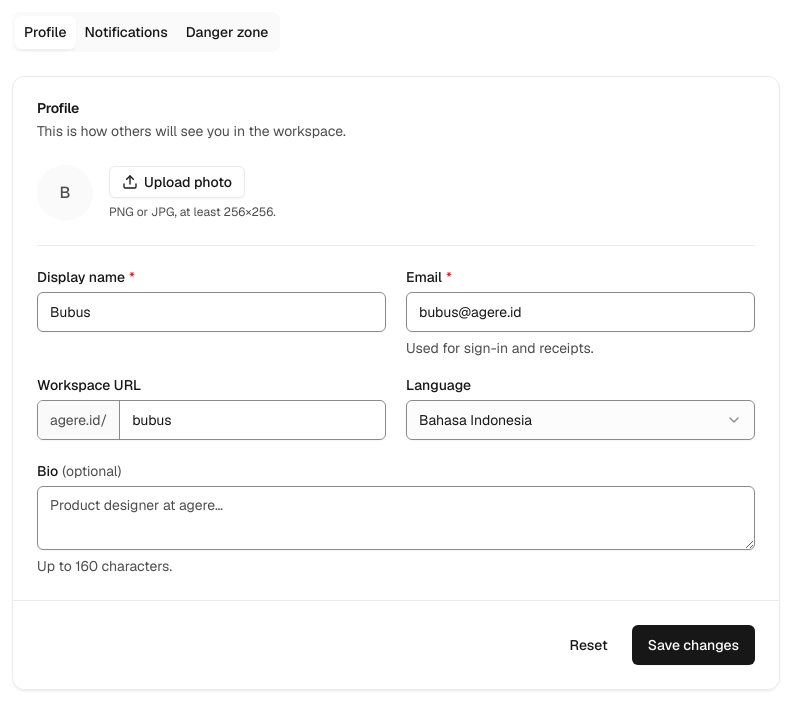
Test: Blocks › AccountSettings validates on submit and focuses the first invalid field
This screenshot has width=797, height=708.
Clear the field labelled "Display name *" at (212, 312), box [37,292,386,332]
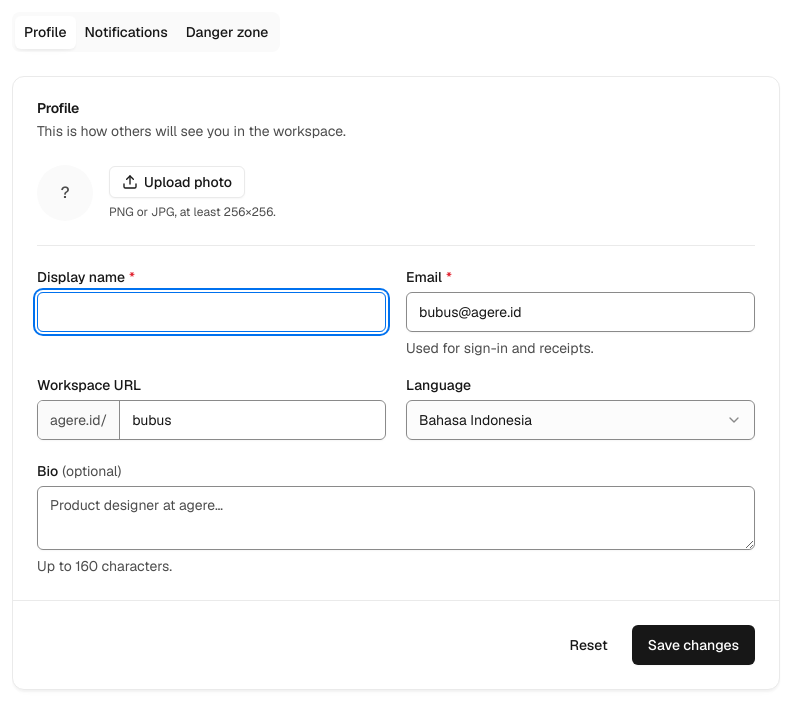
Click the button "Save changes" at (693, 645), box [632,625,755,665]
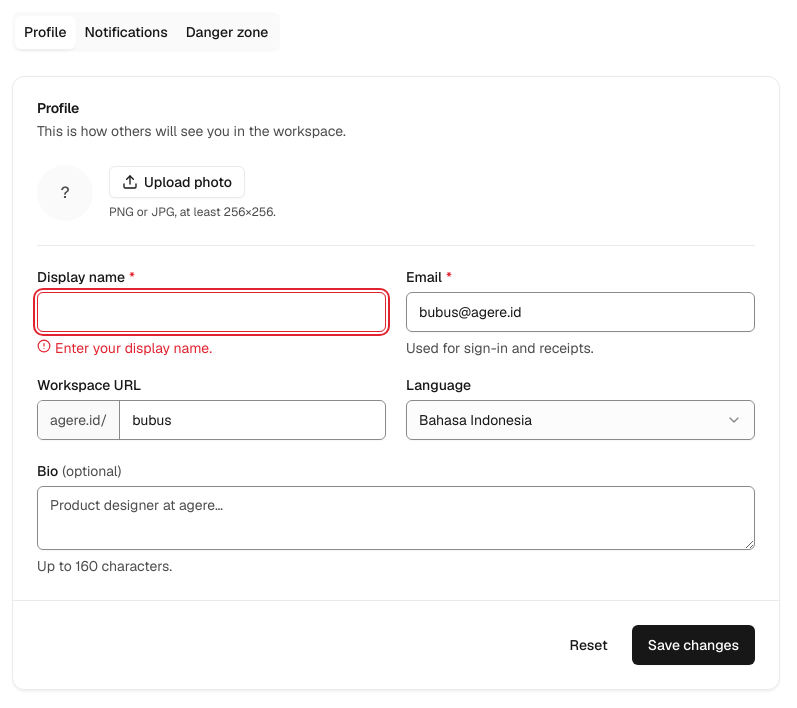
expect the text "Enter your display name." is shown: met, box [37,339,212,357]
